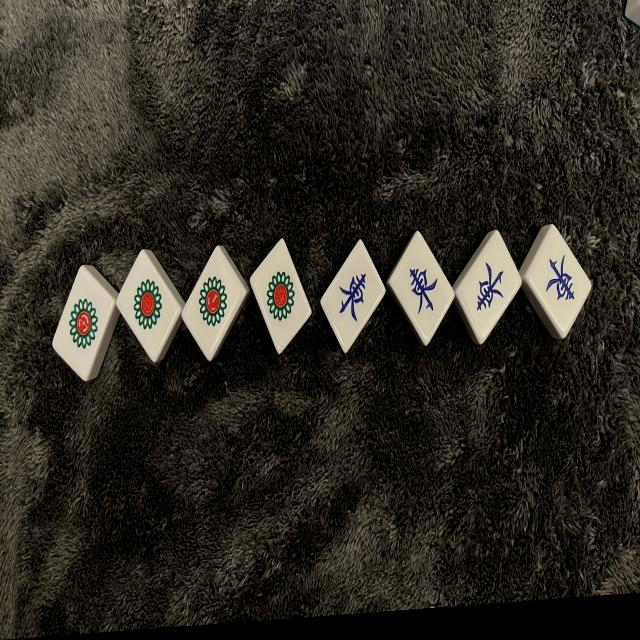east: (524, 221, 593, 340), (389, 229, 457, 347), (453, 228, 522, 343), (320, 239, 388, 353)
t1: (249, 236, 314, 359), (182, 243, 249, 361), (116, 246, 183, 363), (52, 265, 116, 386)
